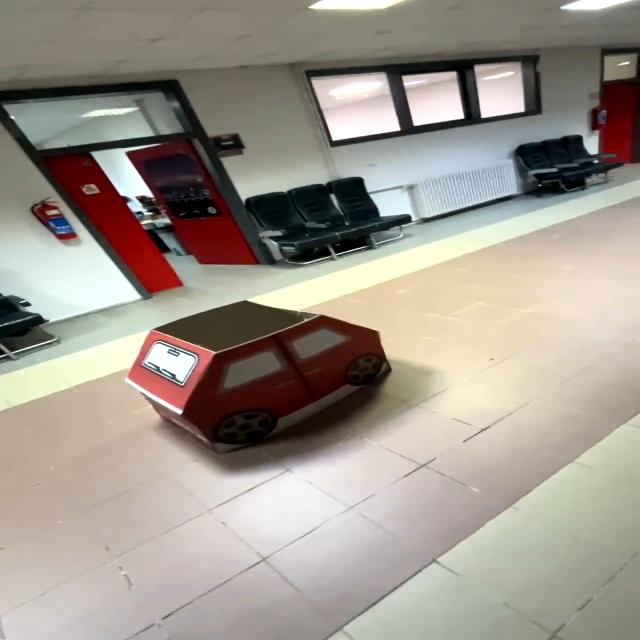red_car: (110, 287, 432, 459)
